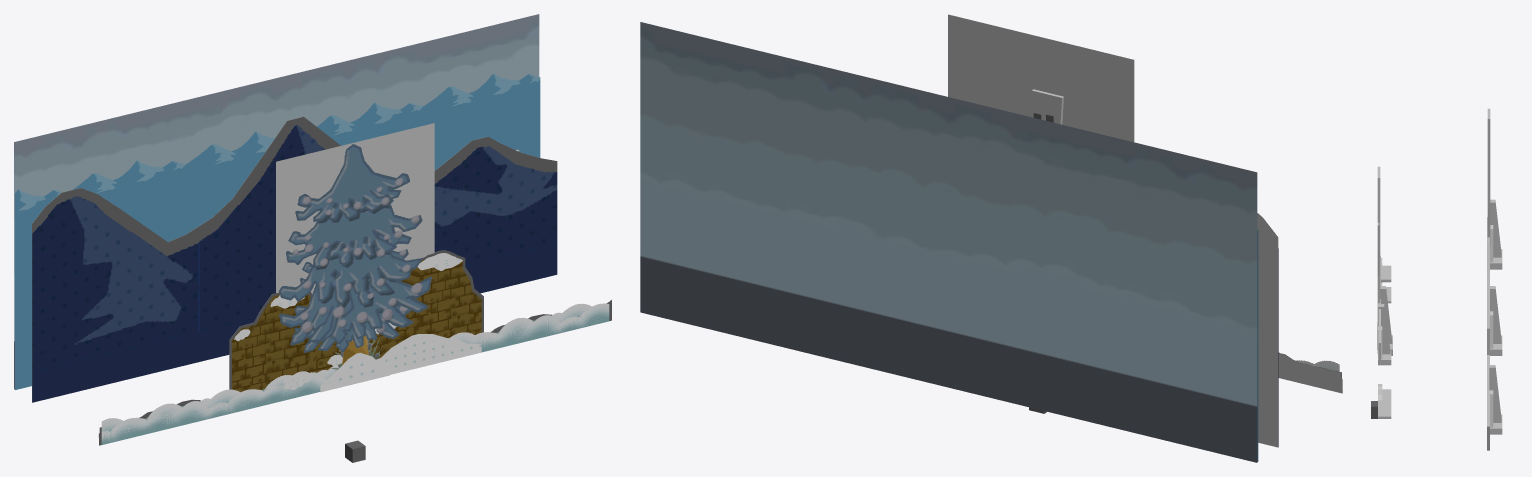
File: stg_07_0_bake.dae
3 renders of one model, left to right at view 1: azimuth 30°, elevation 25°; view 2: azimuth 150°, elevation 25°; view 3: azimuth 270°, elevation 25°, orthographic. The views are drawn at different scales.
Parts seen in each view (by area): view 1: polySurface1024_q00085, pPlane451_q00104, polySurface1282_q00105, pCylinder29_q00017, pCylinder29_q00024, polySurface982_q00005, polySurface1277_q00086, polySurface995_q00084, polySurface995_q00077, polySurface1267_q00003, pCylinder29_q00029, polySurface1270_q00019 (+2 smaller); view 2: pPlane451_q00104, pCylinder29_q00024, polySurface1289_q00103, pCylinder29_q00037, polySurface1258_q00076, polySurface1253_q00027; view 3: polySurface1254_q00102, polySurface1253_q00027, pCube24_q00092, pCube24_q00095, pCube24_q00089, pCube24_q00045, polySurface1252_q00100, polySurface1250_q00101, pCube24_q00023, polySurface1251_q00015, pCube22_q00073, pCube22_q00071 (+2 smaller).
Boxes of the visible parts, <box> form: polySurface1024_q00085: <box>32,125,557,402</box>; pPlane451_q00104: <box>14,14,539,389</box>; polySurface1282_q00105: <box>15,73,540,389</box>; pCylinder29_q00017: <box>279,144,431,345</box>; pCylinder29_q00024: <box>276,123,434,294</box>; polySurface982_q00005: <box>232,259,481,392</box>; polySurface1277_q00086: <box>32,116,557,402</box>; polySurface995_q00084: <box>101,303,609,444</box>; polySurface995_q00077: <box>101,303,609,444</box>; polySurface1267_q00003: <box>376,334,481,374</box>; pCylinder29_q00029: <box>294,249,416,352</box>; polySurface1270_q00019: <box>320,352,389,392</box>; pPlane451_q00104: <box>640,22,1257,462</box>; pCylinder29_q00024: <box>948,14,1134,142</box>; polySurface1289_q00103: <box>1257,213,1278,447</box>; pCylinder29_q00037: <box>967,76,1115,137</box>; polySurface1258_q00076: <box>1278,353,1341,393</box>; polySurface1253_q00027: <box>1030,89,1063,124</box>; polySurface1254_q00102: <box>1487,108,1490,245</box>; polySurface1253_q00027: <box>1377,166,1380,353</box>; pCube24_q00092: <box>1489,365,1501,422</box>; pCube24_q00095: <box>1490,199,1501,257</box>; pCube24_q00089: <box>1490,286,1501,343</box>; pCube24_q00045: <box>1378,304,1390,354</box>; polySurface1252_q00100: <box>1487,243,1489,354</box>; polySurface1250_q00101: <box>1487,217,1489,450</box>; pCube24_q00023: <box>1380,286,1392,343</box>; polySurface1251_q00015: <box>1378,255,1380,363</box>; pCube22_q00073: <box>1378,402,1391,418</box>; pCube22_q00071: <box>1381,265,1391,282</box>.
Size of the model in its own units: 40 by 23.5 by 10.88.
